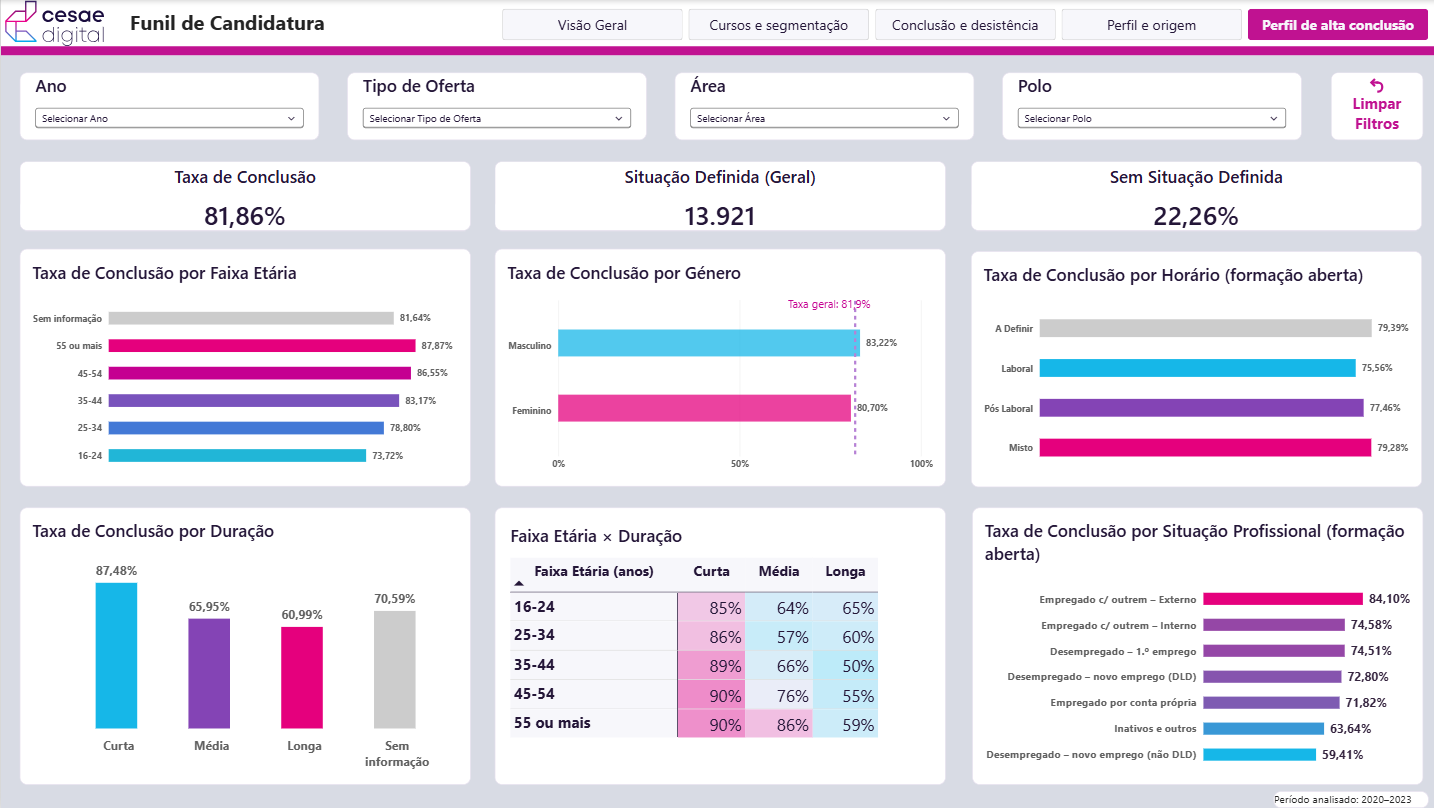

The page's visual inventory and layout, read from the dashboard file:
{"tool":"powerbi","page":{"name":"Perfil de alta conclusão","canvas":[1920,1080],"ordinal":4},"visuals":[{"type":"shape","box":[0,0,1920,72],"z":0},{"type":"image","box":[0,0,144,62],"z":1000},{"type":"shape","box":[0,62,1920,12],"z":2000},{"type":"textbox","box":[172,12,318,42],"z":3000},{"type":"pageNavigator","box":[670,12,1240,42],"z":4000},{"type":"cardVisual","title":"Taxa de Conclusão","fields":{"Data":["_Medidas.Taxa de Conclusão Geral"]},"box":[25,215,602.5,92.5],"z":5000},{"type":"cardVisual","title":"Sem Situação Definida","fields":{"Data":["_Medidas.% Sem Situação Definida Geral"]},"box":[1295,215,602.5,92.5],"z":6000},{"type":"cardVisual","title":"Situação Definida (Geral)","fields":{"Data":["_Medidas.Situação Definida Geral"]},"box":[660,215,602.5,92.5],"z":7000},{"type":"barChart","title":"Taxa de Conclusão por Faixa Etária","fields":{"Category":["Inscrito.FaixaEtaria"],"Y":["_Medidas.Taxa de Conclusão Geral"]},"box":[25,332.5,602.5,317.5],"z":8000},{"type":"clusteredBarChart","title":"Taxa de Conclusão por Género","fields":{"Category":["Inscrito.Género Exibição"],"Y":["_Medidas.Taxa de Conclusão Geral"]},"box":[660,332.5,602.5,317.5],"z":9000},{"type":"clusteredBarChart","title":"Taxa de Conclusão por Horário (formação aberta)","fields":{"Category":["AuxTipoHorario.Designacao"],"Y":["_Medidas.Taxa de Conclusão Geral"]},"box":[1295,335,602.5,315],"z":10000},{"type":"cardVisual","fields":{"Data":["_Medidas.Texto Taxa Geral"]},"box":[1035.1,372.8,159.3,67],"z":11000},{"type":"clusteredColumnChart","title":"Taxa de Conclusão por Duração","fields":{"Category":["Accao.Duracao"],"Y":["_Medidas.Taxa de Conclusão Geral"]},"box":[25,677.5,602,370],"z":12000},{"type":"pivotTable","title":"Faixa Etária × Duração","fields":{"Columns":["Accao.Duracao"],"Rows":["Inscrito.FaixaEtaria"],"Values":["_Medidas.Taxa de Conclusão Geral"]},"box":[660,677.5,602.5,370],"z":13000},{"type":"clusteredBarChart","title":"Taxa de Conclusão por Situação Profissional (formação aberta)","fields":{"Category":["AuxSitMEmprego.Situação Profissional"],"Y":["_Medidas.Taxa de Conclusão Geral"]},"box":[1297.5,677.5,602.5,370],"z":14000},{"type":"textbox","box":[1700,1057.5,207.5,22.5],"z":15000},{"type":"listSlicer","fields":{"Values":["Calendario.Ano"]},"box":[25,97.5,400,90],"z":16000},{"type":"listSlicer","fields":{"Values":["CentroPolo.Designacao_Padronizada"]},"box":[1338.2,97.5,400,90],"z":17000},{"type":"listSlicer","fields":{"Values":["AuxArea.Designacao"]},"box":[900.5,97.5,400,90],"z":18000},{"type":"listSlicer","fields":{"Values":["Accao.TipoOferta"]},"box":[462.8,97.5,400,90],"z":19000},{"type":"actionButton","box":[1776,97.5,123,90],"z":21000}]}

Visuals, with their boxes in screenshot pixels (x1, y1, x2, y2), scaled from the page's 1920x1080 canvas onto the 1434x808 screenshot:
shape: [x1=0, y1=0, x2=1433, y2=54]
image: [x1=0, y1=0, x2=108, y2=46]
shape: [x1=0, y1=46, x2=1433, y2=55]
textbox: [x1=128, y1=9, x2=366, y2=40]
pageNavigator: [x1=500, y1=9, x2=1427, y2=40]
"Taxa de Conclusão" cardVisual: [x1=19, y1=161, x2=469, y2=230]
"Sem Situação Definida" cardVisual: [x1=967, y1=161, x2=1417, y2=230]
"Situação Definida (Geral)" cardVisual: [x1=493, y1=161, x2=943, y2=230]
"Taxa de Conclusão por Faixa Etária" barChart: [x1=19, y1=249, x2=469, y2=486]
"Taxa de Conclusão por Género" clusteredBarChart: [x1=493, y1=249, x2=943, y2=486]
"Taxa de Conclusão por Horário (formação aberta)" clusteredBarChart: [x1=967, y1=251, x2=1417, y2=486]
cardVisual - _Medidas.Texto Taxa Geral: [x1=773, y1=279, x2=892, y2=329]
"Taxa de Conclusão por Duração" clusteredColumnChart: [x1=19, y1=507, x2=468, y2=784]
"Faixa Etária × Duração" pivotTable: [x1=493, y1=507, x2=943, y2=784]
"Taxa de Conclusão por Situação Profissional (formação aberta)" clusteredBarChart: [x1=969, y1=507, x2=1419, y2=784]
textbox: [x1=1270, y1=791, x2=1425, y2=807]
listSlicer - Calendario.Ano: [x1=19, y1=73, x2=317, y2=140]
listSlicer - CentroPolo.Designacao_Padronizada: [x1=999, y1=73, x2=1298, y2=140]
listSlicer - AuxArea.Designacao: [x1=673, y1=73, x2=971, y2=140]
listSlicer - Accao.TipoOferta: [x1=346, y1=73, x2=644, y2=140]
actionButton: [x1=1326, y1=73, x2=1418, y2=140]
